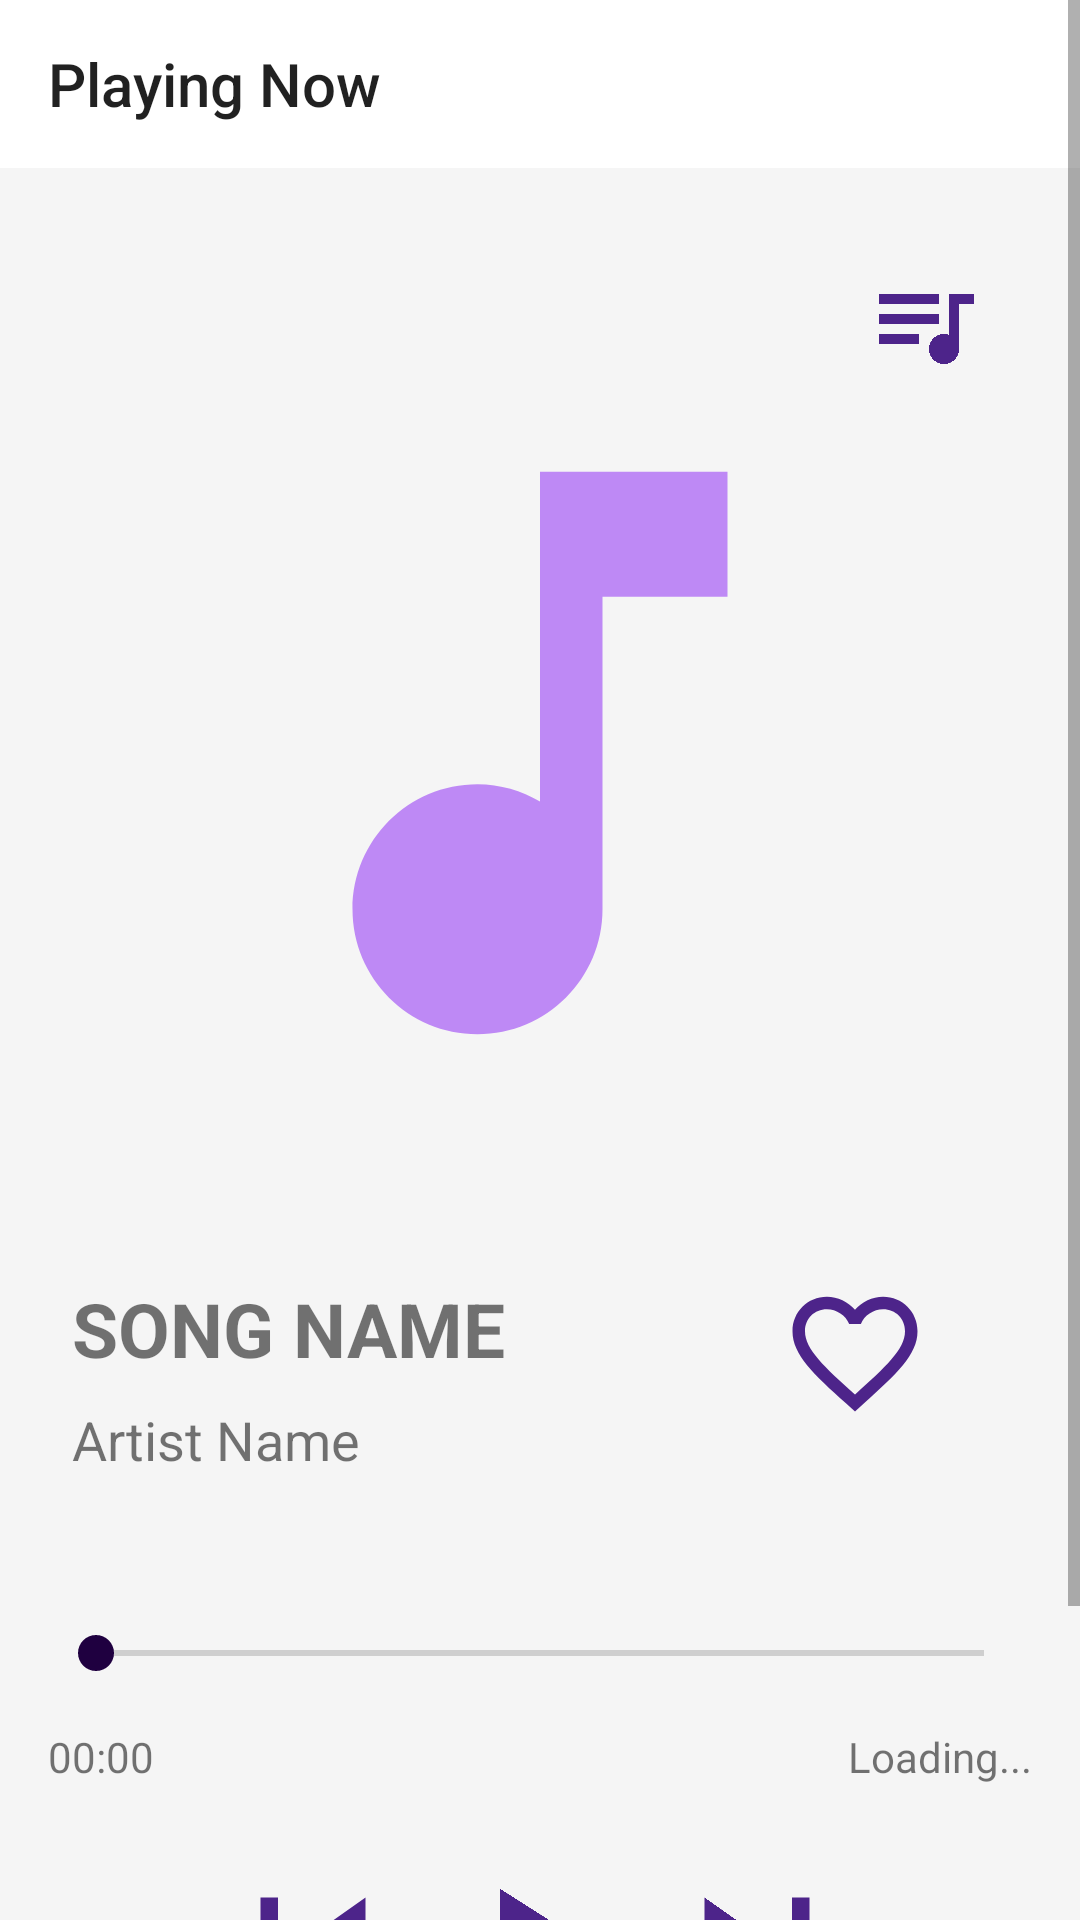

Screen size 1080×1920. Icon name, then its center in pixels as [x,y]:
favorite borde: [855,1354]
Song Queue button: [926,329]
